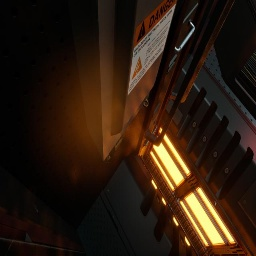EmergencyPhone ,: (104, 132, 124, 164)
SafetySwitchPanel ,: (68, 0, 184, 161)
